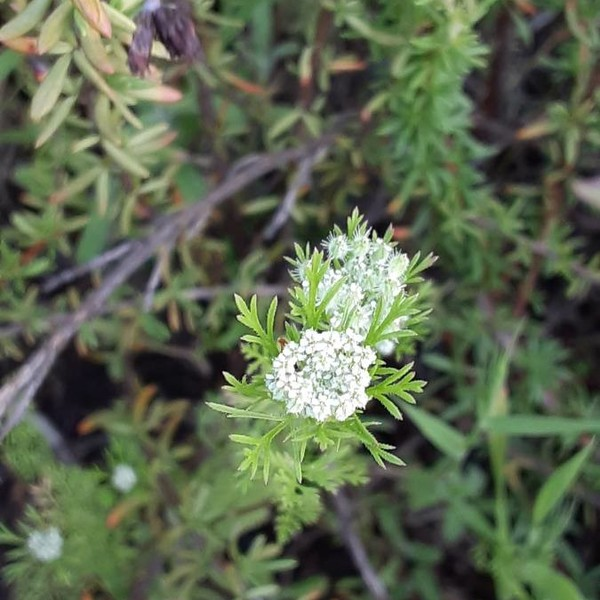obstacle: (190, 234, 551, 596)
